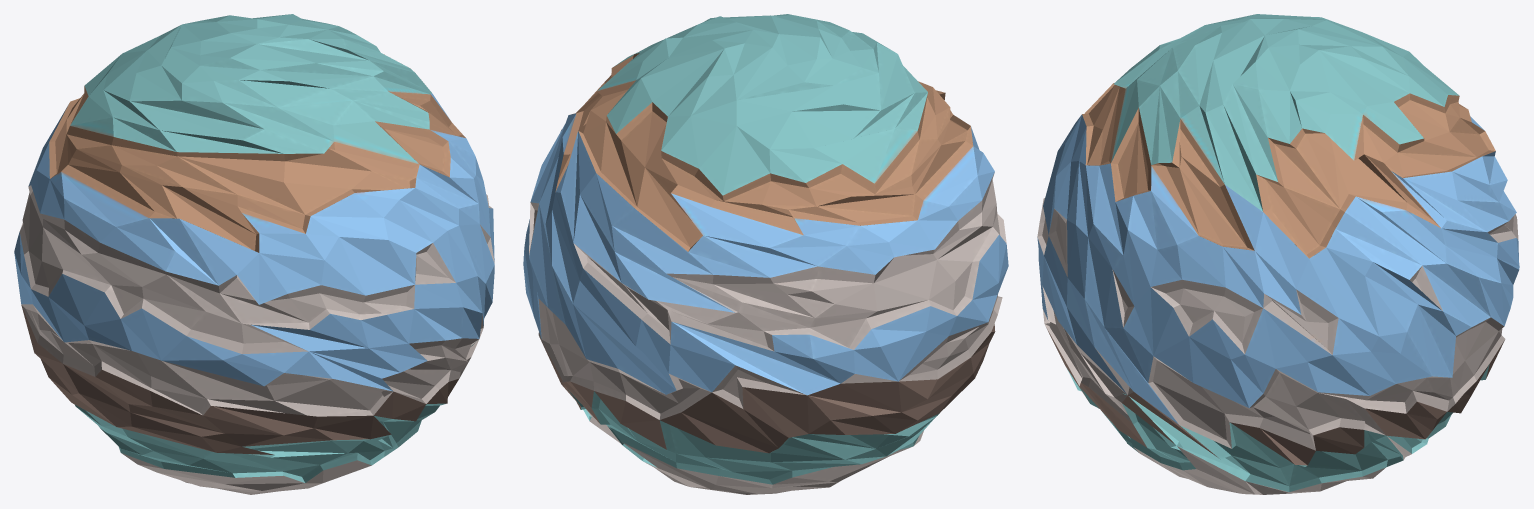
File: Jupiter.FBX
3 renders of one model, left to right at view 1: azimuth 30°, elevation 25°; view 2: azimuth 150°, elevation 25°; view 3: azimuth 270°, elevation 25°, orthographic.
Parts seen in each view (by area): view 1: Jupiter; view 2: Jupiter; view 3: Jupiter.
Boxes of the visible parts, bbox=[...] form: Jupiter: bbox=[14, 14, 494, 494]; Jupiter: bbox=[523, 14, 1008, 494]; Jupiter: bbox=[1037, 14, 1519, 494].
Size of the model in its own units: 1.01 by 1.02 by 1.02.
